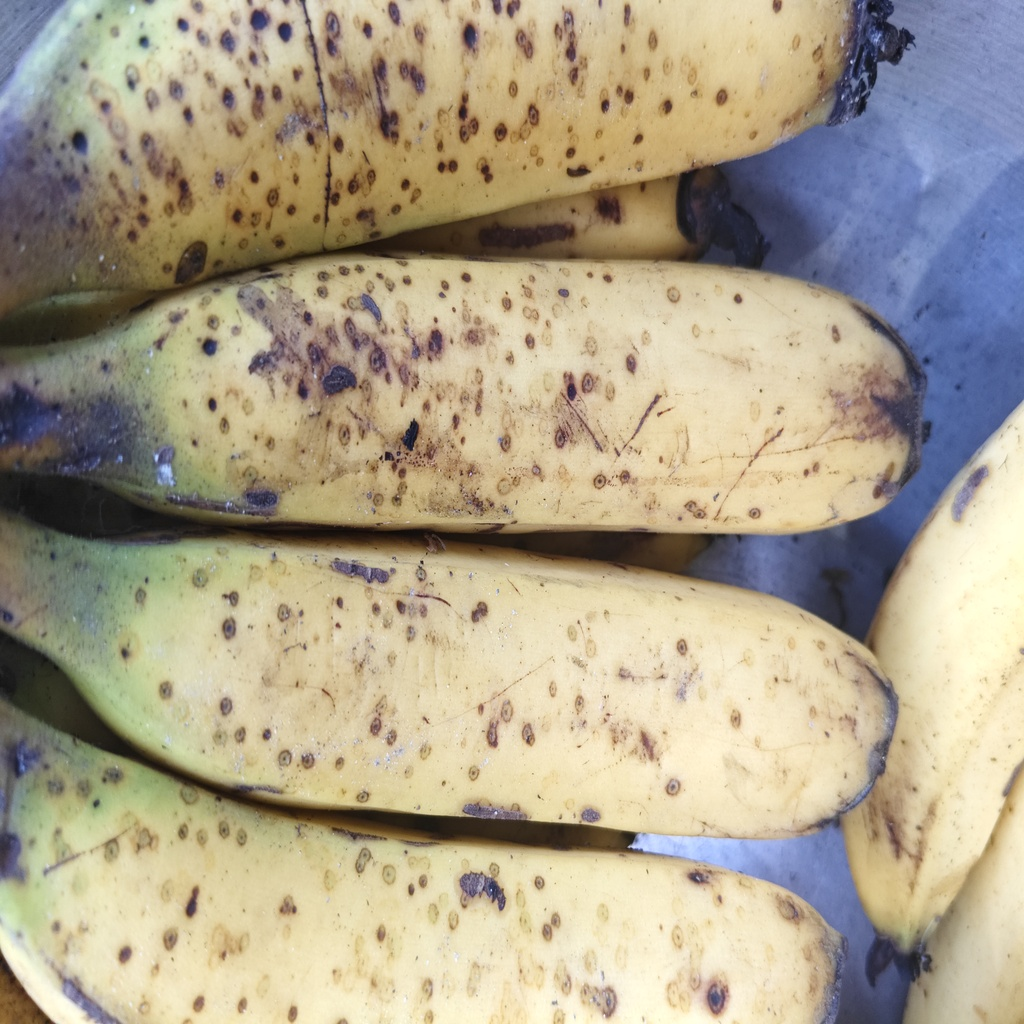unhealthy: (64, 532, 892, 838), (80, 248, 916, 531)
